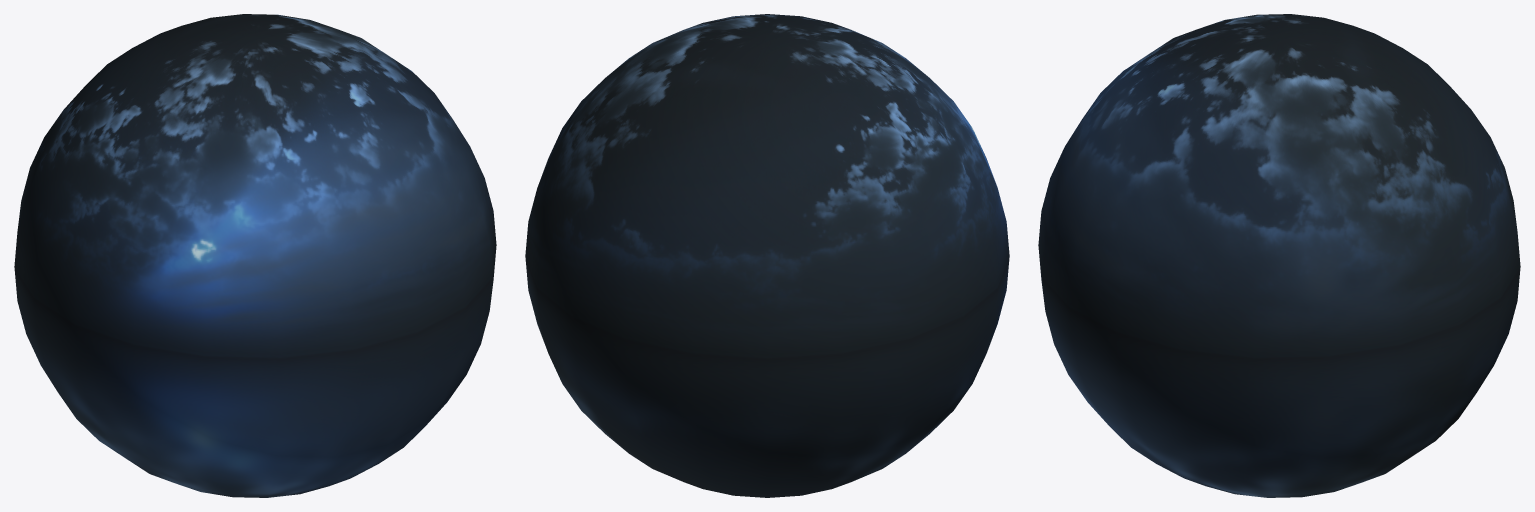
The model's file is NFL_Skybox.fbx.
3 views of the same model, side by side, from view 1: azimuth 30°, elevation 25°; view 2: azimuth 150°, elevation 25°; view 3: azimuth 270°, elevation 25° (orthographic).
Parts seen in each view (by area): view 1: NFL_Skybox; view 2: NFL_Skybox; view 3: NFL_Skybox.
Part boxes in pixels (x1,y1,x2,y2): NFL_Skybox: (14, 14, 496, 497); NFL_Skybox: (525, 14, 1009, 497); NFL_Skybox: (1038, 14, 1520, 497).
Size of the model in its own units: 4252 by 4275 by 4252.
